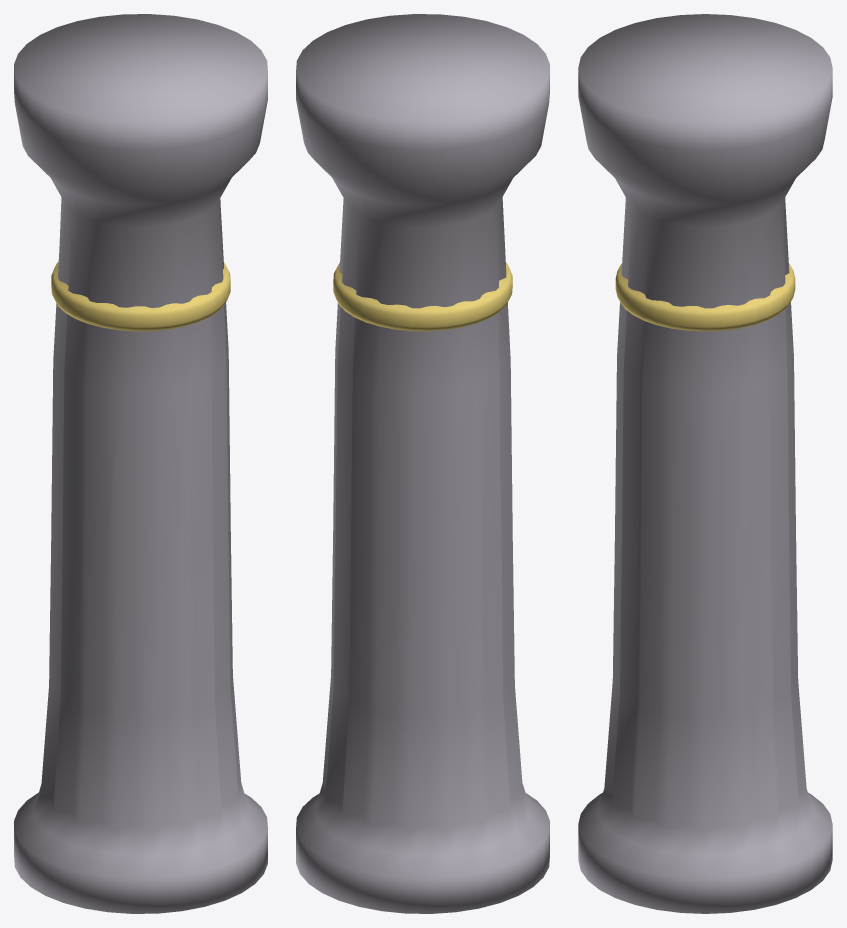
The model's file is pillar.fbx.
3 views of the same model, side by side, from view 1: azimuth 30°, elevation 25°; view 2: azimuth 150°, elevation 25°; view 3: azimuth 270°, elevation 25° (orthographic).
Parts seen in each view (by area): view 1: Column, Band; view 2: Column, Band; view 3: Column, Band.
Part boxes in pixels (bbox=[...]): Column: bbox=[14, 14, 267, 913]; Band: bbox=[51, 262, 230, 331]; Column: bbox=[296, 14, 549, 913]; Band: bbox=[333, 262, 512, 331]; Column: bbox=[578, 14, 832, 913]; Band: bbox=[615, 263, 795, 331].
Bounding box in the file's own units: 0.64 × 2.2 × 0.64.
